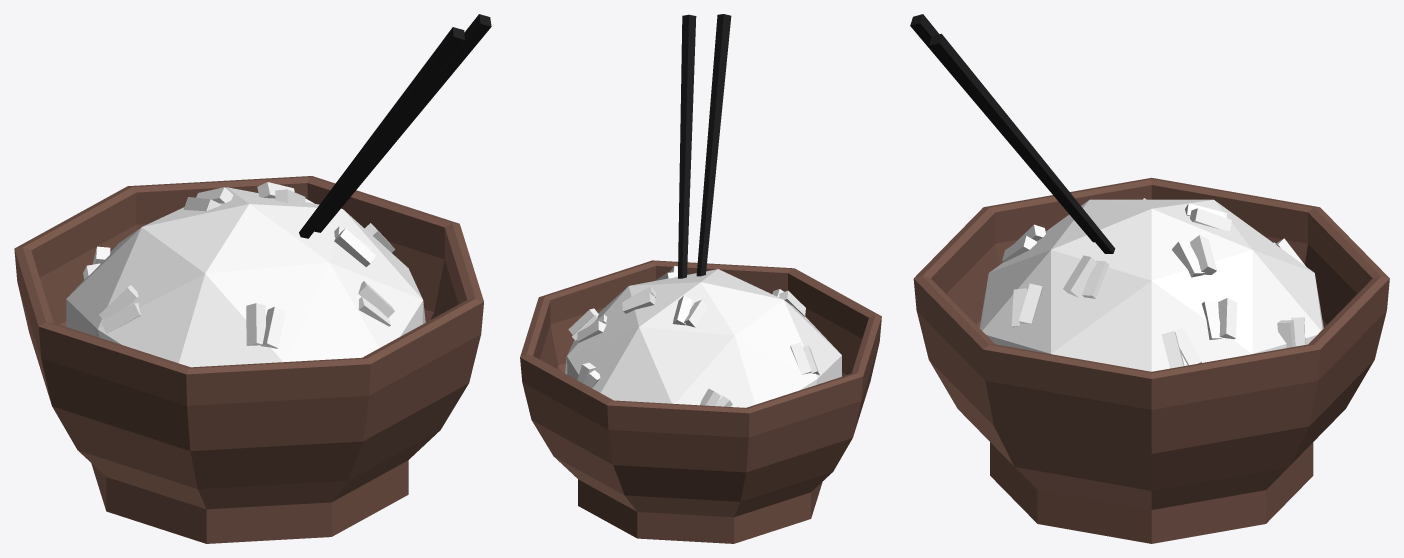
The model's file is Bowl_of_Rice_01.obj.
3 views of the same model, side by side, from view 1: azimuth 30°, elevation 25°; view 2: azimuth 150°, elevation 25°; view 3: azimuth 270°, elevation 25° (orthographic). The views are drawn at different scales.
Visible parts, largest first — view 1: Bowl_of_Rice_Cube.024; view 2: Bowl_of_Rice_Cube.024; view 3: Bowl_of_Rice_Cube.024.
Boxes of the visible parts, bbox=[...] form: Bowl_of_Rice_Cube.024: bbox=[14, 14, 491, 543]; Bowl_of_Rice_Cube.024: bbox=[520, 14, 881, 543]; Bowl_of_Rice_Cube.024: bbox=[910, 14, 1389, 543].
Bounding box in the file's own units: 8.84 × 10.31 × 8.91.
